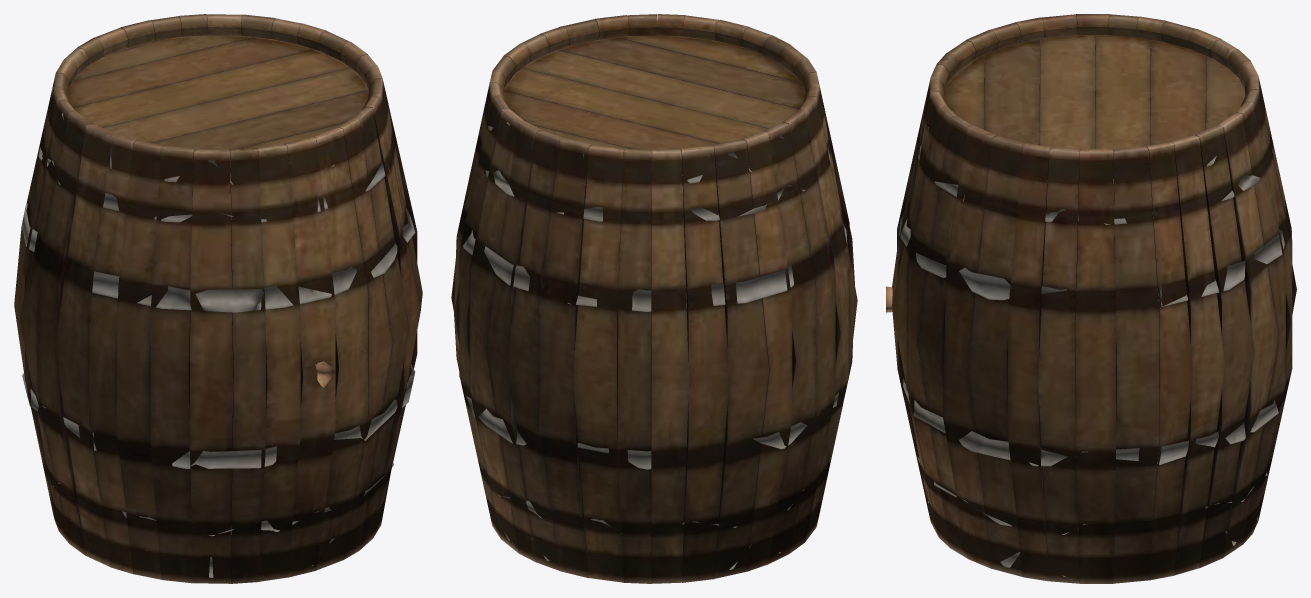
File: wine_barrel_01.glb
3 renders of one model, left to right at view 1: azimuth 30°, elevation 25°; view 2: azimuth 150°, elevation 25°; view 3: azimuth 270°, elevation 25°, orthographic.
Parts seen in each view (by area): view 1: wine_barrel_01_Lid; view 2: wine_barrel_01_Lid; view 3: wine_barrel_01_Lid.
Part boxes in pixels (x1,y1,x2,y2): wine_barrel_01_Lid: (14,14,422,583); wine_barrel_01_Lid: (451,14,857,583); wine_barrel_01_Lid: (886,14,1296,583).
Bounding box in the file's own units: 0.7391 × 0.8695 × 0.7505.
Materials: 1 (1 with a texture image).
